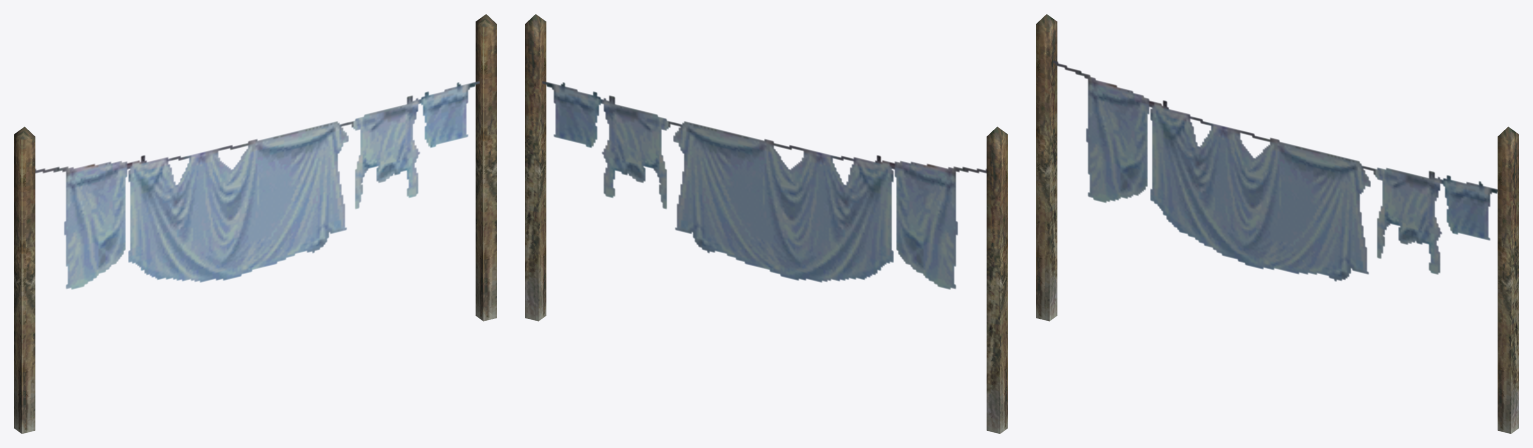
The model's file is dress1.glb.
3 views of the same model, side by side, from view 1: azimuth 30°, elevation 25°; view 2: azimuth 150°, elevation 25°; view 3: azimuth 330°, elevation 25° (orthographic).
Parts seen in each view (by area): view 1: dress1; view 2: dress1; view 3: dress1.
Part boxes in pixels (box(x1,y1,x2,y2)): dress1: box(14, 14, 496, 433); dress1: box(525, 14, 1007, 433); dress1: box(1036, 14, 1518, 433).
Size of the model in its own units: 3.94 by 2.4 by 0.1123.
2 materials, 2 textured.
